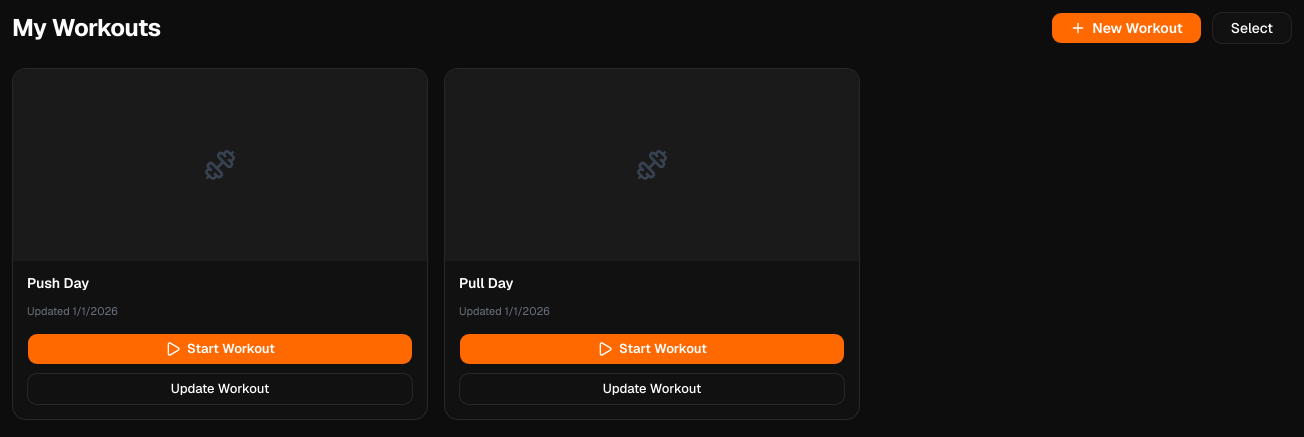
WorkoutList › Deselect all deselects every workout after selecting all
This screenshot has width=1304, height=437.
Click the button "Select": (1252, 28) 1212,12 -> 1292,44
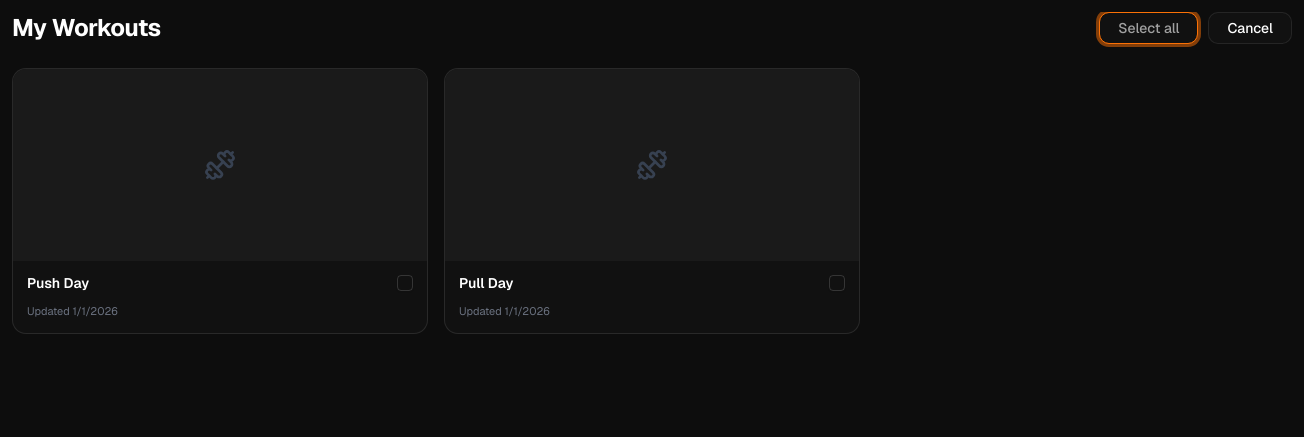
Click the button "Select all": (1149, 28) 1099,12 -> 1198,44
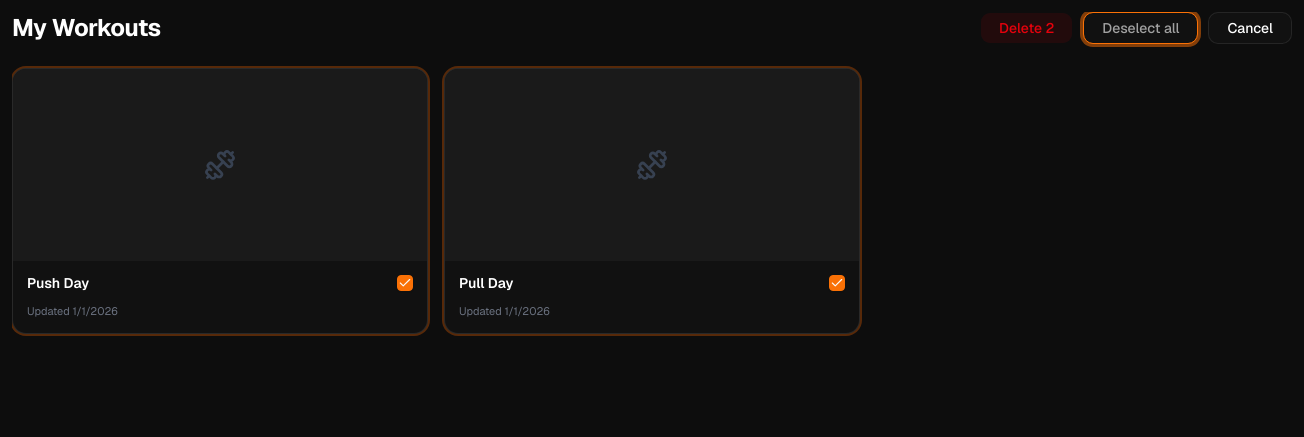
Click the button "Deselect all": (1141, 28) 1083,12 -> 1198,44
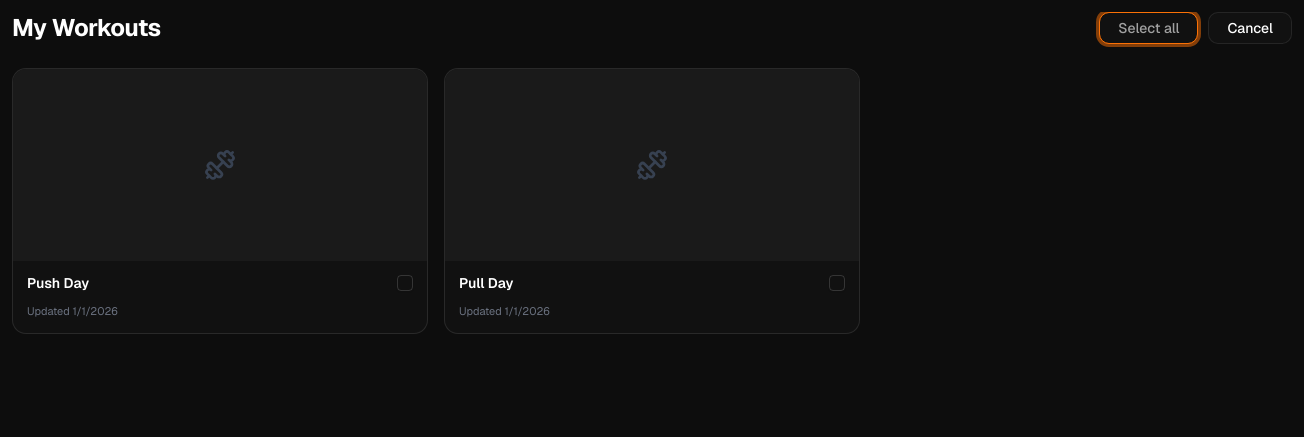
Expected: the checkbox in the row of "Push Day" is not checked, 397,275 -> 413,291
Expected: the checkbox in the row of "Pull Day" is not checked, 829,275 -> 845,291
